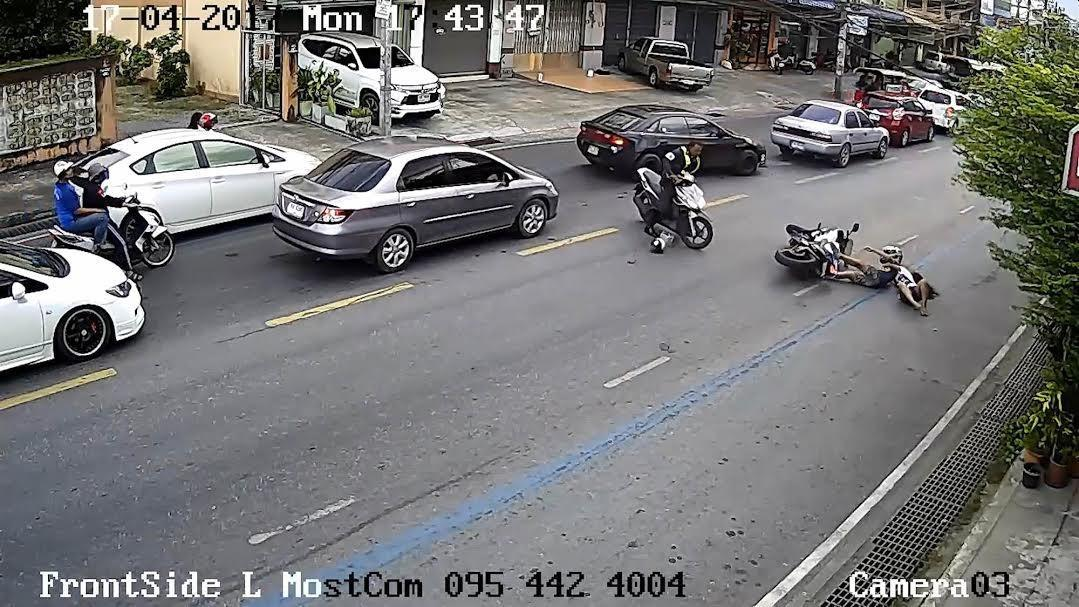accident: (829, 243, 903, 289), (892, 268, 934, 317)
